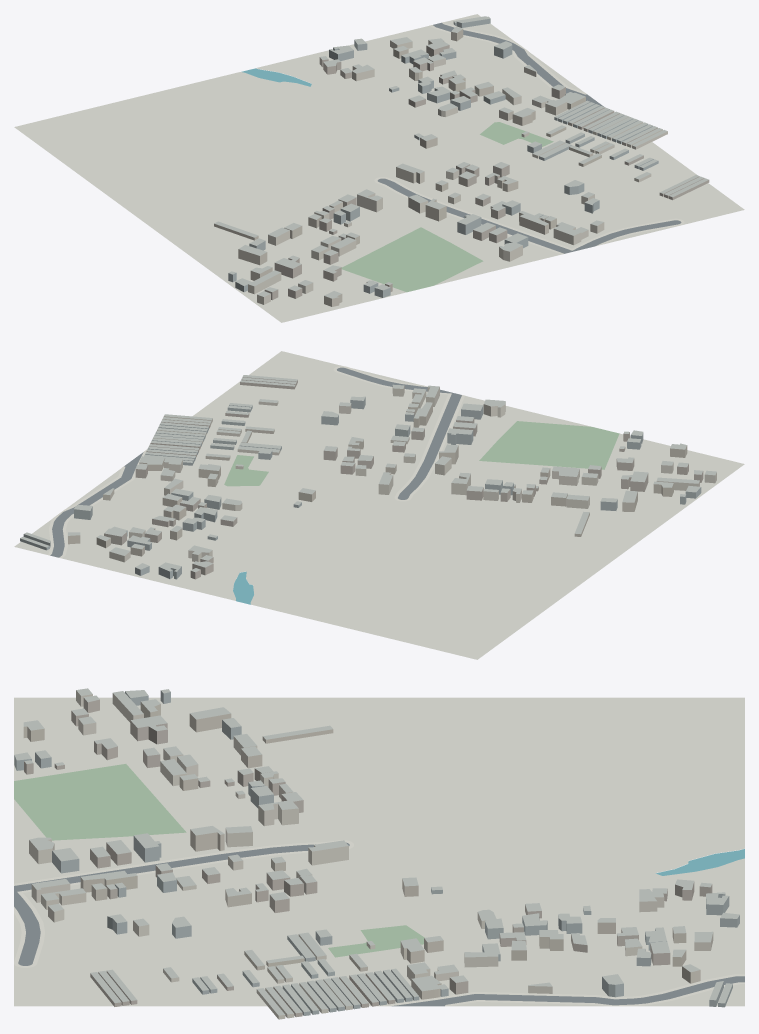
3 views of the same model, one above another, from view 1: azimuth 30°, elevation 25°; view 2: azimuth 150°, elevation 25°; view 3: azimuth 270°, elevation 25° (orthographic). The views are drawn at different scales.
Parts seen in each view (by area): view 1: city; view 2: city; view 3: city.
Boxes of the visible parts, x1=… form: city: x1=14, y1=14, x2=744, y2=322; city: x1=14, y1=351, x2=744, y2=659; city: x1=14, y1=688, x2=744, y2=1019.
Size of the model in its own units: 521 by 12.48 by 500.
